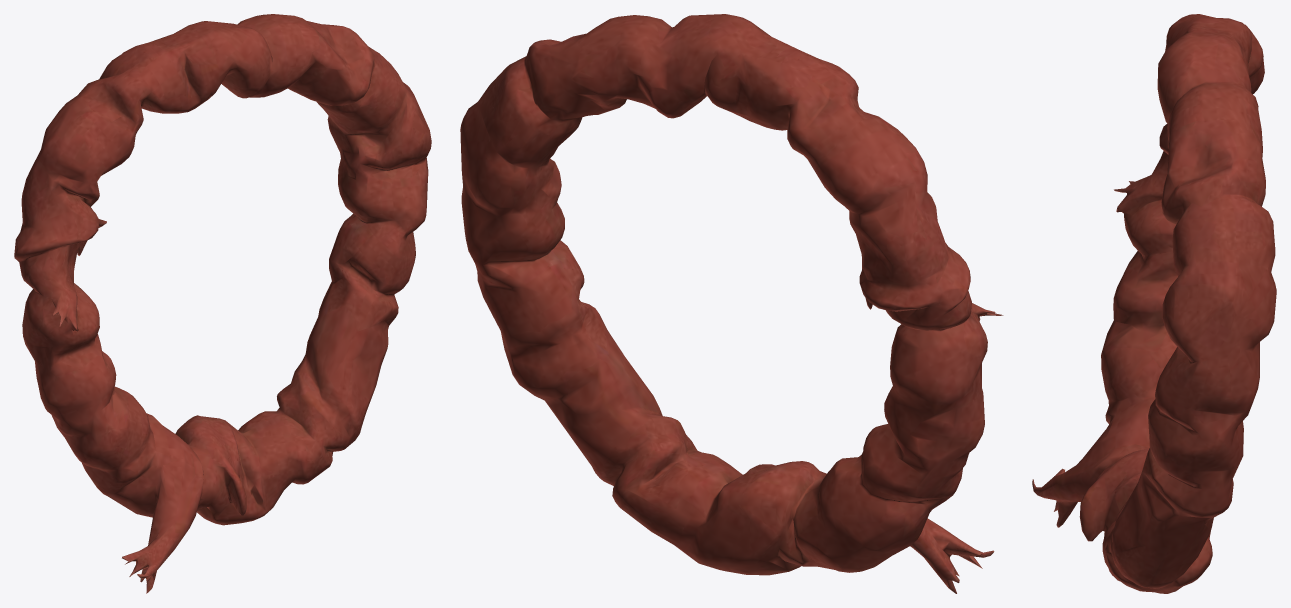
File: intestine2.glb
3 renders of one model, left to right at view 1: azimuth 30°, elevation 25°; view 2: azimuth 150°, elevation 25°; view 3: azimuth 270°, elevation 25°, orthographic. The views are drawn at different scales.
Parts seen in each view (by area): view 1: Mesh_0; view 2: Mesh_0; view 3: Mesh_0.
Boxes of the visible parts, x1=… form: Mesh_0: x1=14, y1=14, x2=431, y2=593; Mesh_0: x1=460, y1=14, x2=1003, y2=593; Mesh_0: x1=1032, y1=14, x2=1276, y2=593.
Size of the model in its own units: 1.67 by 1.9 by 0.7497.
Materials: 1 (1 with a texture image).
